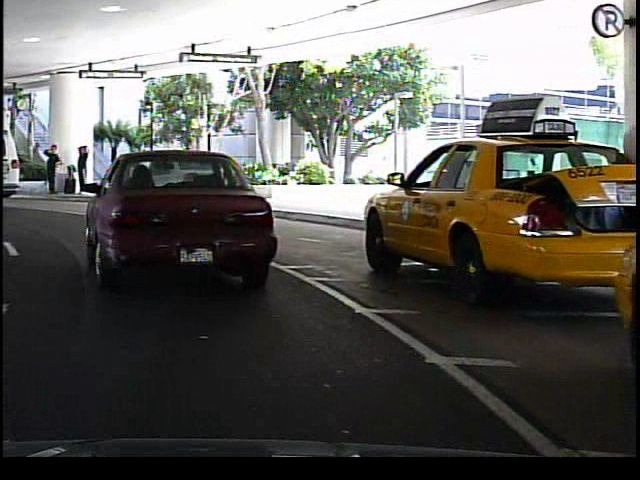person: (127, 143, 156, 199), (38, 141, 60, 199), (70, 141, 90, 198)
